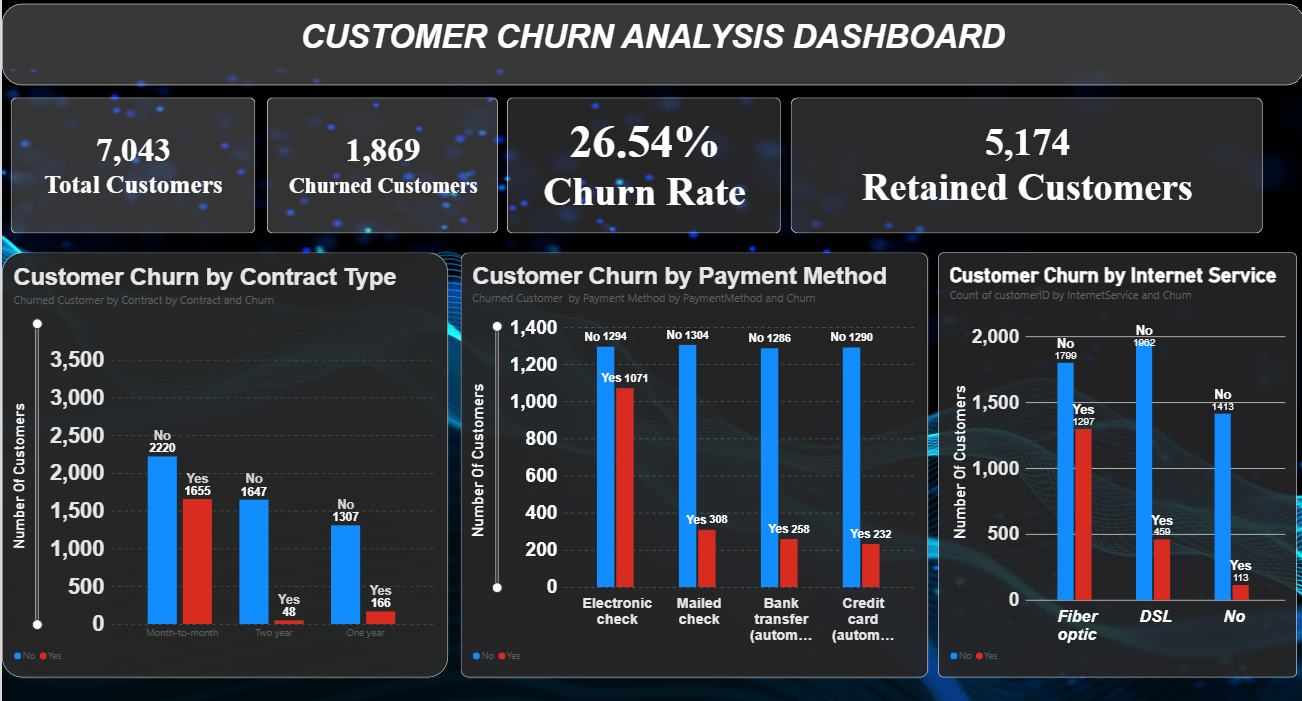

The page's visual inventory and layout, read from the dashboard file:
{"tool":"powerbi","page":{"name":"Customer Churn Overview","canvas":[1920,1080],"ordinal":0},"visuals":[{"type":"textbox","box":[0,12.9,1919.6,119.6],"z":0},{"type":"cardVisual","fields":{"Data":["customer_churn_analysis.Total Customers Display"]},"box":[12.9,150.9,360.7,200.6],"z":1000},{"type":"cardVisual","fields":{"Data":["customer_churn_analysis.Churned Customers Display"]},"box":[390.2,150.9,340.5,200.6],"z":2000},{"type":"cardVisual","fields":{"Data":["customer_churn_analysis.Churn Rate"]},"box":[743.6,150.9,403.1,200.6],"z":3000},{"type":"cardVisual","fields":{"Data":["customer_churn_analysis.Retained Customers Display"]},"box":[1161.4,150.9,695.7,200.6],"z":4000},{"type":"clusteredColumnChart","title":"Customer  Churn by Contract Type","fields":{"Category":["customer_churn_analysis.Contract"],"Series":["customer_churn_analysis.Churn"],"Y":["CountNonNull(customer_churn_analysis.customerID)"]},"box":[0,379.1,657.1,625.8],"z":5000},{"type":"clusteredColumnChart","title":"Customer Churn by Payment Method","fields":{"Category":["customer_churn_analysis.PaymentMethod"],"Series":["customer_churn_analysis.Churn"],"Y":["CountNonNull(customer_churn_analysis.customerID)"]},"box":[675.5,379.1,688.3,625.8],"z":6000},{"type":"clusteredColumnChart","title":"Customer Churn by Internet Service","fields":{"Category":["customer_churn_analysis.InternetService"],"Series":["customer_churn_analysis.Churn"],"Y":["CountNonNull(customer_churn_analysis.customerID)"]},"box":[1378.5,379.1,528.2,625.8],"z":7000}]}

Visuals, with their boxes on the page's 1920x1080 design canvas (x1, y1, x2, y2). These are canvas units, not pixel positions in the 1302x701 screenshot, which may show the page scaled, cropped or inside an application window:
textbox: 0, 13, 1920, 132
cardVisual - customer_churn_analysis.Total Customers Display: 13, 151, 374, 352
cardVisual - customer_churn_analysis.Churned Customers Display: 390, 151, 731, 352
cardVisual - customer_churn_analysis.Churn Rate: 744, 151, 1147, 352
cardVisual - customer_churn_analysis.Retained Customers Display: 1161, 151, 1857, 352
"Customer  Churn by Contract Type" clusteredColumnChart: 0, 379, 657, 1005
"Customer Churn by Payment Method" clusteredColumnChart: 676, 379, 1364, 1005
"Customer Churn by Internet Service" clusteredColumnChart: 1378, 379, 1907, 1005
